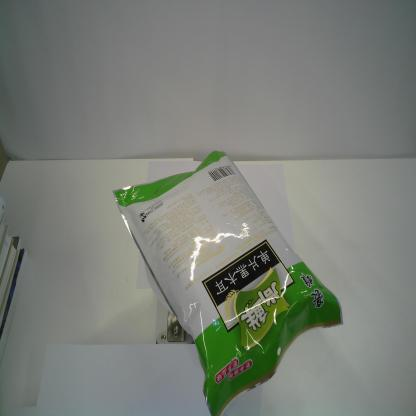Dried Food: (112, 150, 344, 416)
